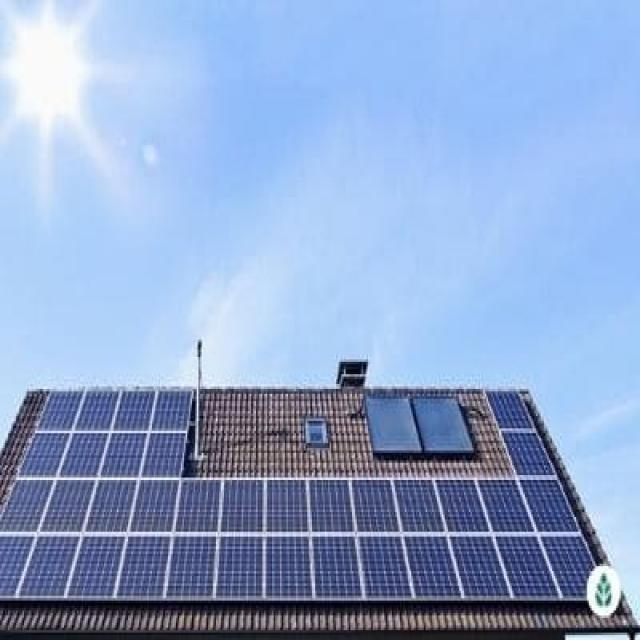faulty: (415, 400, 471, 448), (370, 399, 415, 448)
no faulty: (496, 535, 556, 596), (453, 537, 508, 595), (543, 536, 595, 597), (21, 539, 76, 596), (405, 537, 459, 595), (361, 537, 412, 598), (118, 536, 168, 597), (71, 538, 124, 595), (439, 479, 491, 532), (482, 479, 534, 532), (168, 537, 216, 594), (41, 481, 94, 532), (0, 481, 52, 532), (219, 537, 263, 597), (395, 479, 444, 532), (315, 539, 361, 595), (266, 537, 310, 595), (525, 481, 577, 530), (176, 479, 220, 534), (87, 481, 137, 529), (132, 480, 178, 532), (354, 480, 399, 530), (268, 479, 307, 534), (222, 481, 262, 532), (0, 537, 34, 595), (312, 481, 352, 530), (61, 435, 108, 475), (102, 433, 144, 477), (75, 389, 119, 430), (142, 433, 183, 475), (21, 435, 65, 474), (504, 434, 549, 472), (39, 392, 82, 428), (115, 391, 155, 428), (154, 391, 188, 427), (494, 393, 529, 424)
